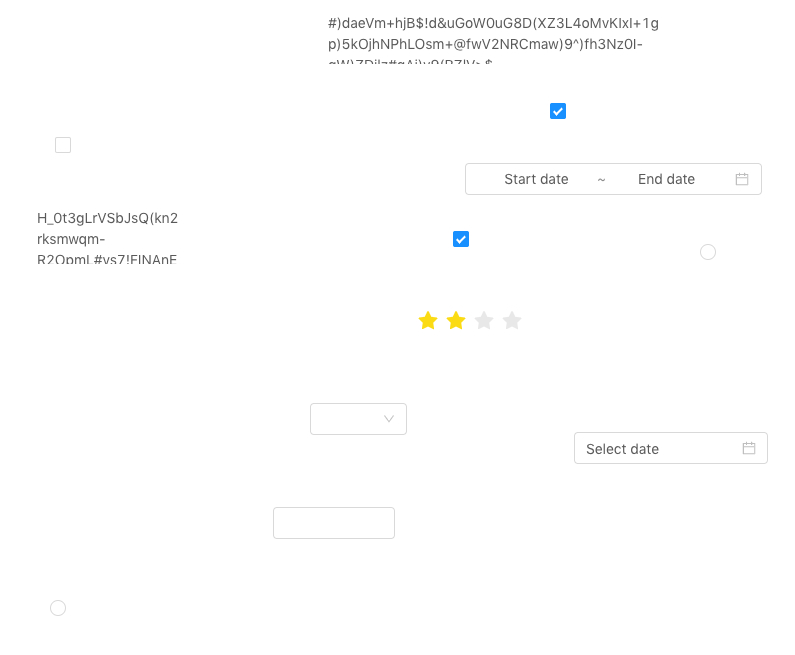Checkbox: (550, 100, 566, 121), (55, 134, 71, 155), (453, 228, 469, 249)
DatePicker: (574, 432, 768, 464)
Input: (273, 507, 395, 539)
Radio: (700, 241, 716, 261), (50, 597, 66, 617)
RangePicker: (465, 163, 762, 195)
Rate: (418, 304, 538, 336)
Select: (310, 403, 407, 435)
Text: (328, 12, 664, 64), (37, 207, 181, 264)
